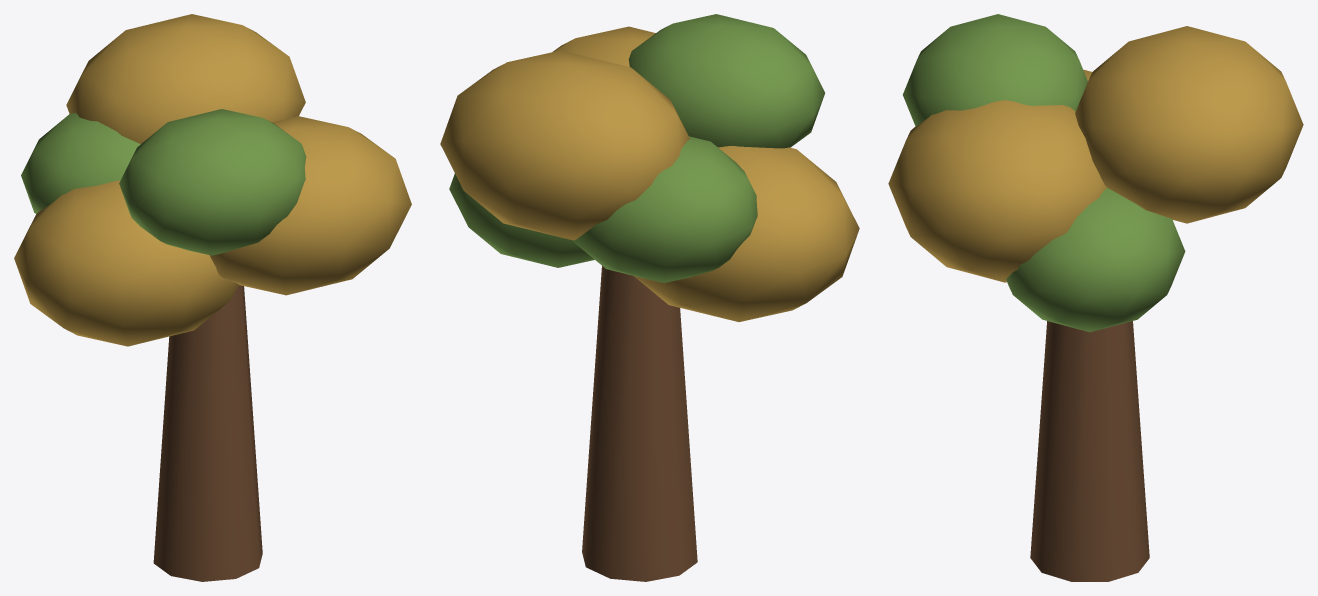
File: boundary-cluster.glb
3 renders of one model, left to right at view 1: azimuth 30°, elevation 25°; view 2: azimuth 150°, elevation 25°; view 3: azimuth 270°, elevation 25°, orthographic. The views are drawn at different scales.
Parts seen in each view (by area): view 1: trunk, crown_3, crown_2, crown_5, crown_1, crown_4; view 2: crown_5, trunk, crown_3, crown_2, crown_4, crown_0, crown_1; view 3: crown_5, crown_1, trunk, crown_0, crown_2.
Part boxes in pixels (<box>): trunk: <box>153,285,262,581</box>; crown_3: <box>14,180,238,346</box>; crown_2: <box>119,109,306,255</box>; crown_5: <box>66,14,305,143</box>; crown_1: <box>210,116,411,295</box>; crown_4: <box>21,113,140,213</box>; crown_5: <box>440,50,689,240</box>; trunk: <box>582,266,697,581</box>; crown_3: <box>634,146,859,321</box>; crown_2: <box>628,14,824,148</box>; crown_4: <box>573,136,757,282</box>; crown_0: <box>449,173,594,267</box>; crown_1: <box>552,26,655,66</box>; crown_5: <box>1075,26,1303,223</box>; crown_1: <box>888,100,1106,282</box>; trunk: <box>1030,321,1149,581</box>; crown_0: <box>1006,188,1185,332</box>; crown_2: <box>903,14,1087,126</box>.
Size of what is drawn, in the model's own units: 4.59 by 6.03 by 4.31.
